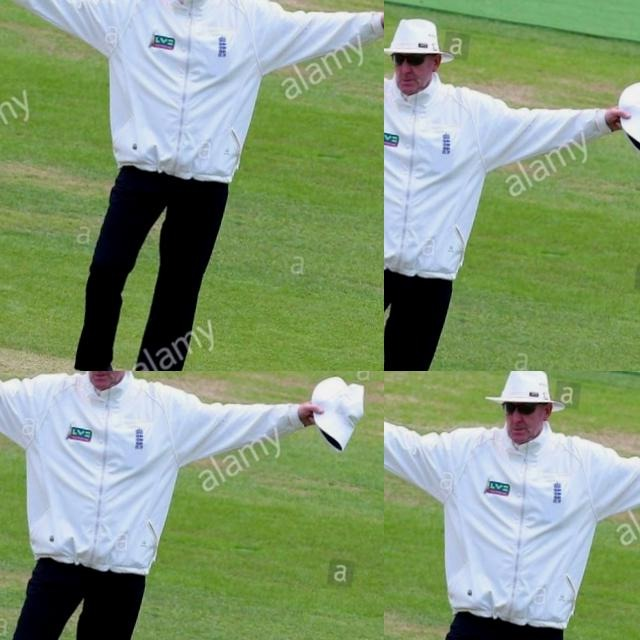No_Ball: (384, 371, 640, 640), (0, 0, 286, 201)
Six: (384, 0, 470, 246)
Wide: (0, 371, 384, 640)
